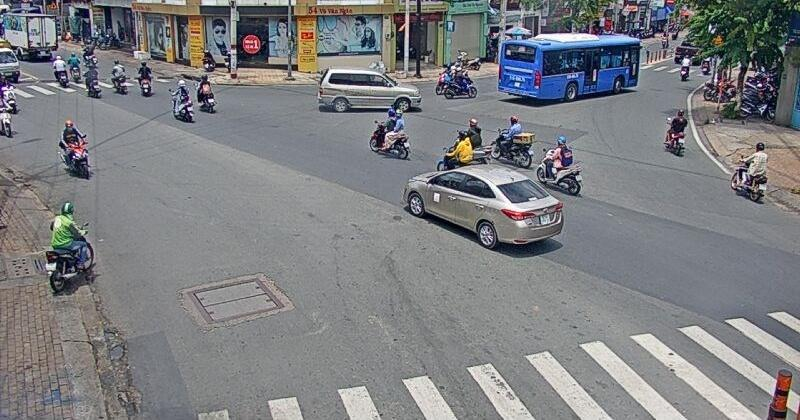xe buyt: (495, 33, 639, 104)
xe hoi: (402, 166, 569, 254), (316, 65, 422, 110)
xe may: (42, 199, 96, 293), (540, 135, 581, 193), (729, 139, 767, 200), (491, 117, 535, 168), (369, 109, 412, 160), (60, 119, 90, 176), (168, 78, 198, 123), (662, 109, 687, 159)
